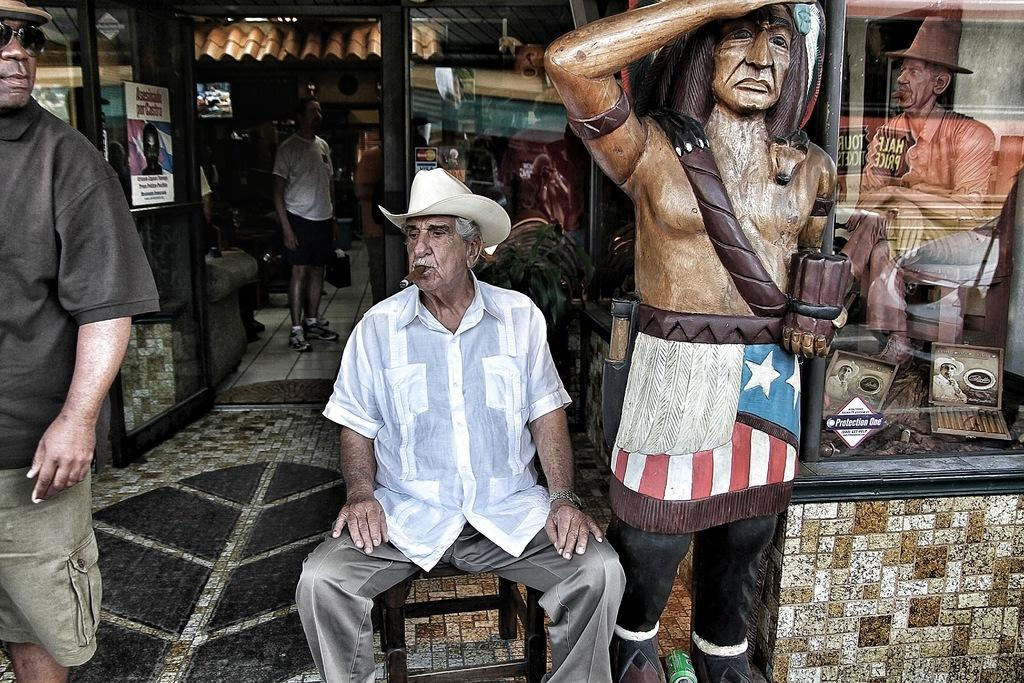Hat: (376, 166, 514, 251), (884, 14, 970, 78), (0, 0, 52, 20)
